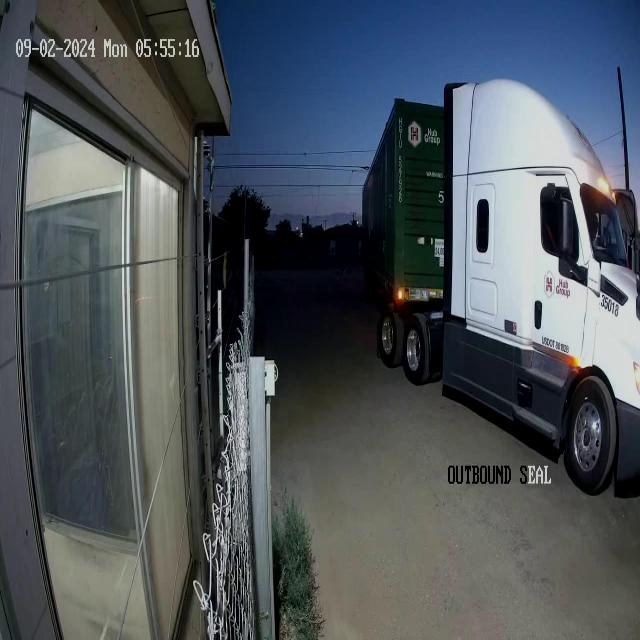TRUCK_CONTAINER: (361, 76, 640, 496)
